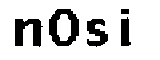0: (48, 6, 81, 48)
i: (115, 3, 138, 51)
n: (11, 15, 47, 51)
s: (84, 14, 112, 49)
